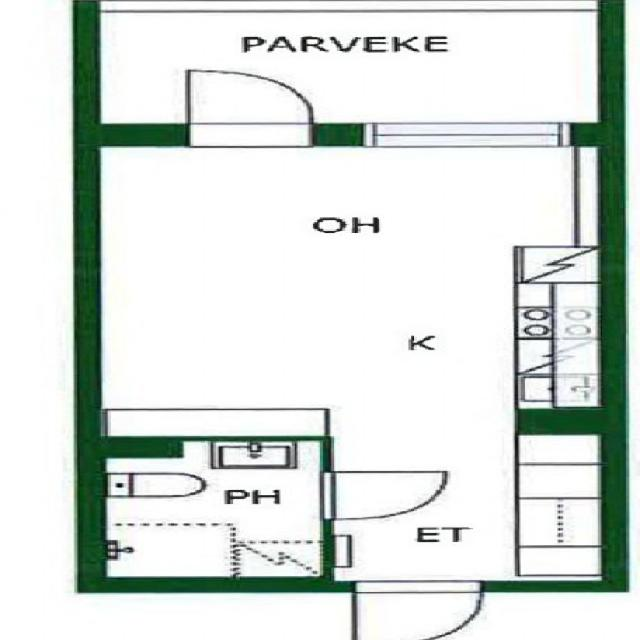door: (190, 71, 312, 146), (354, 581, 481, 640), (322, 472, 442, 519)
